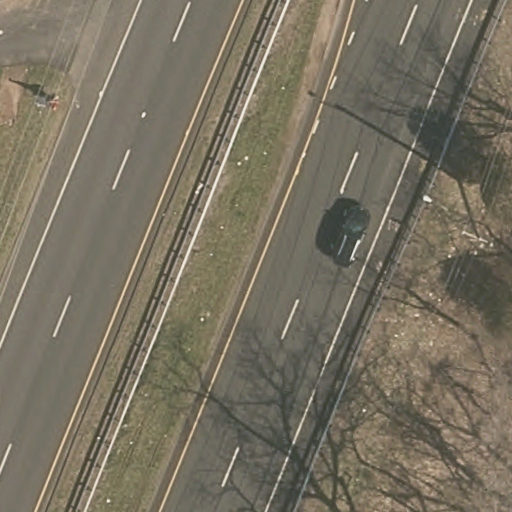DT: (450, 224, 496, 270)
